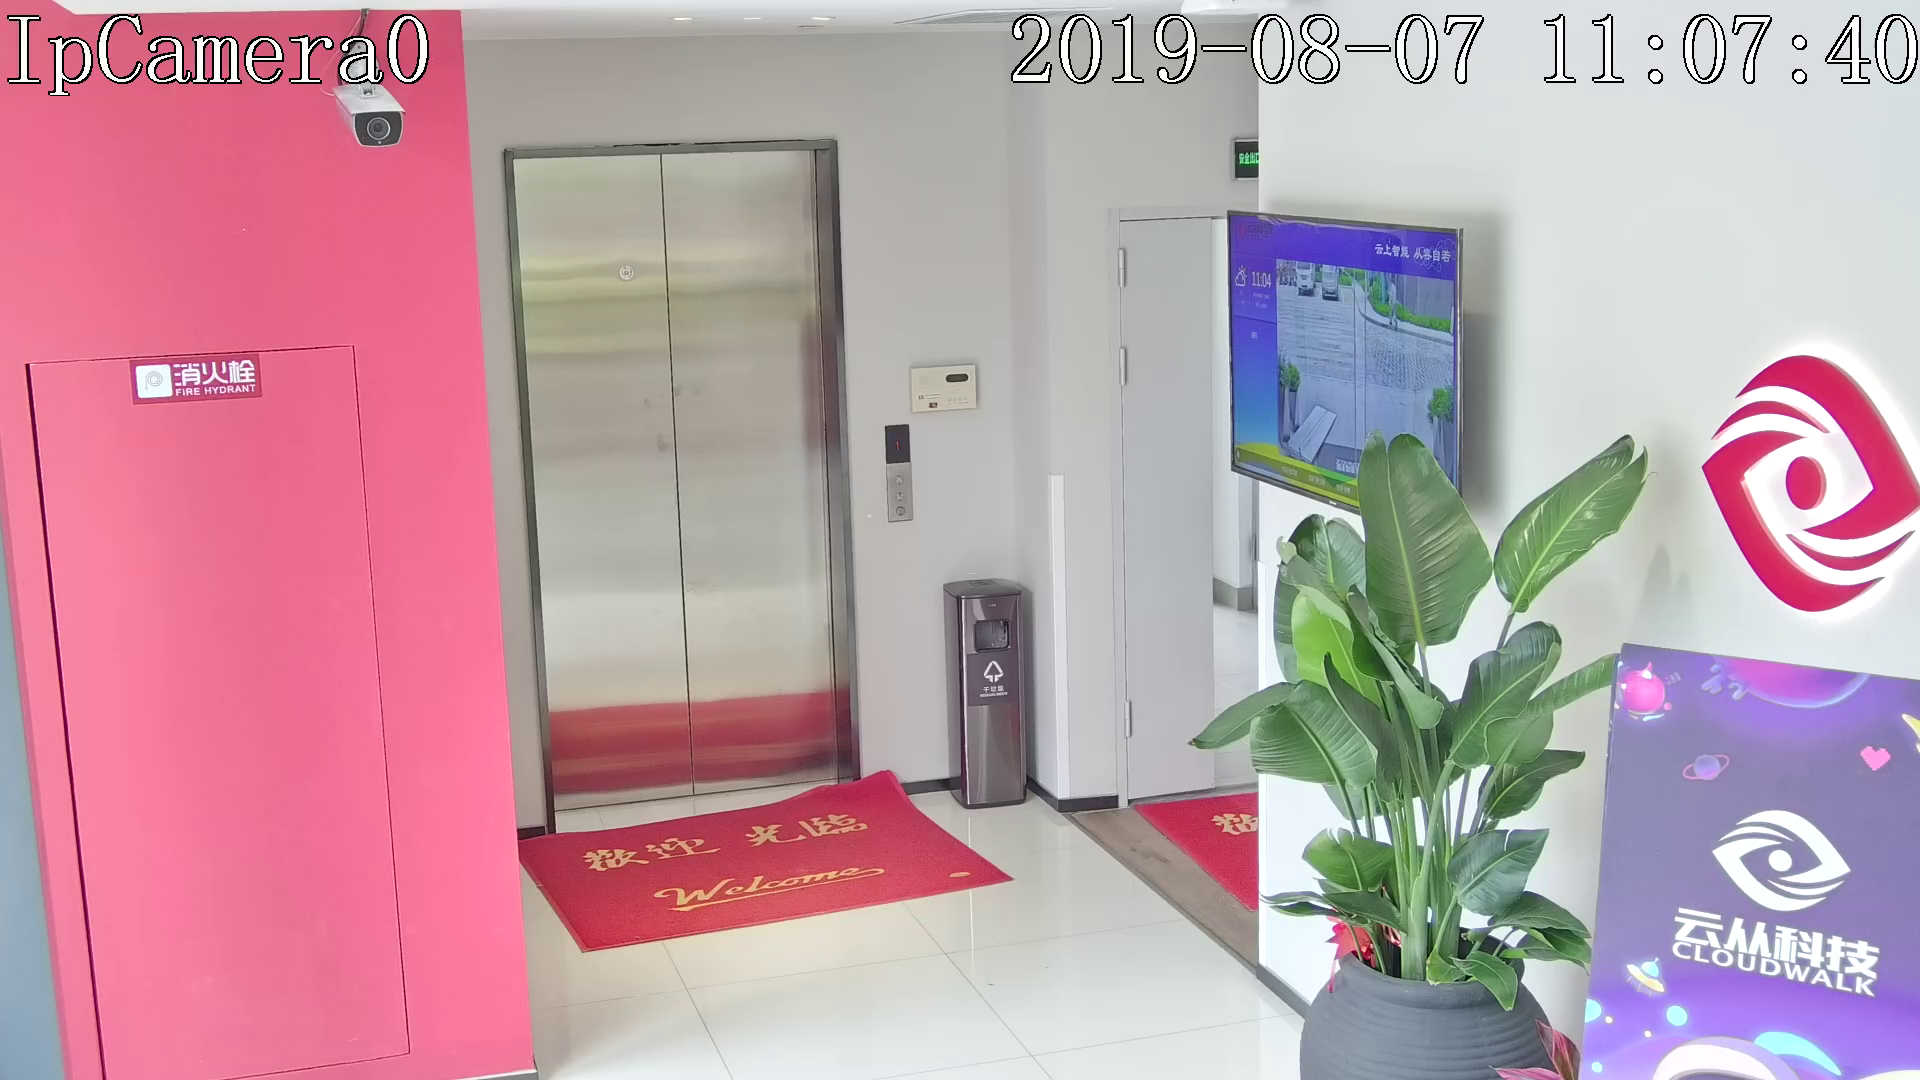bill: (1588, 642, 1920, 1077)
